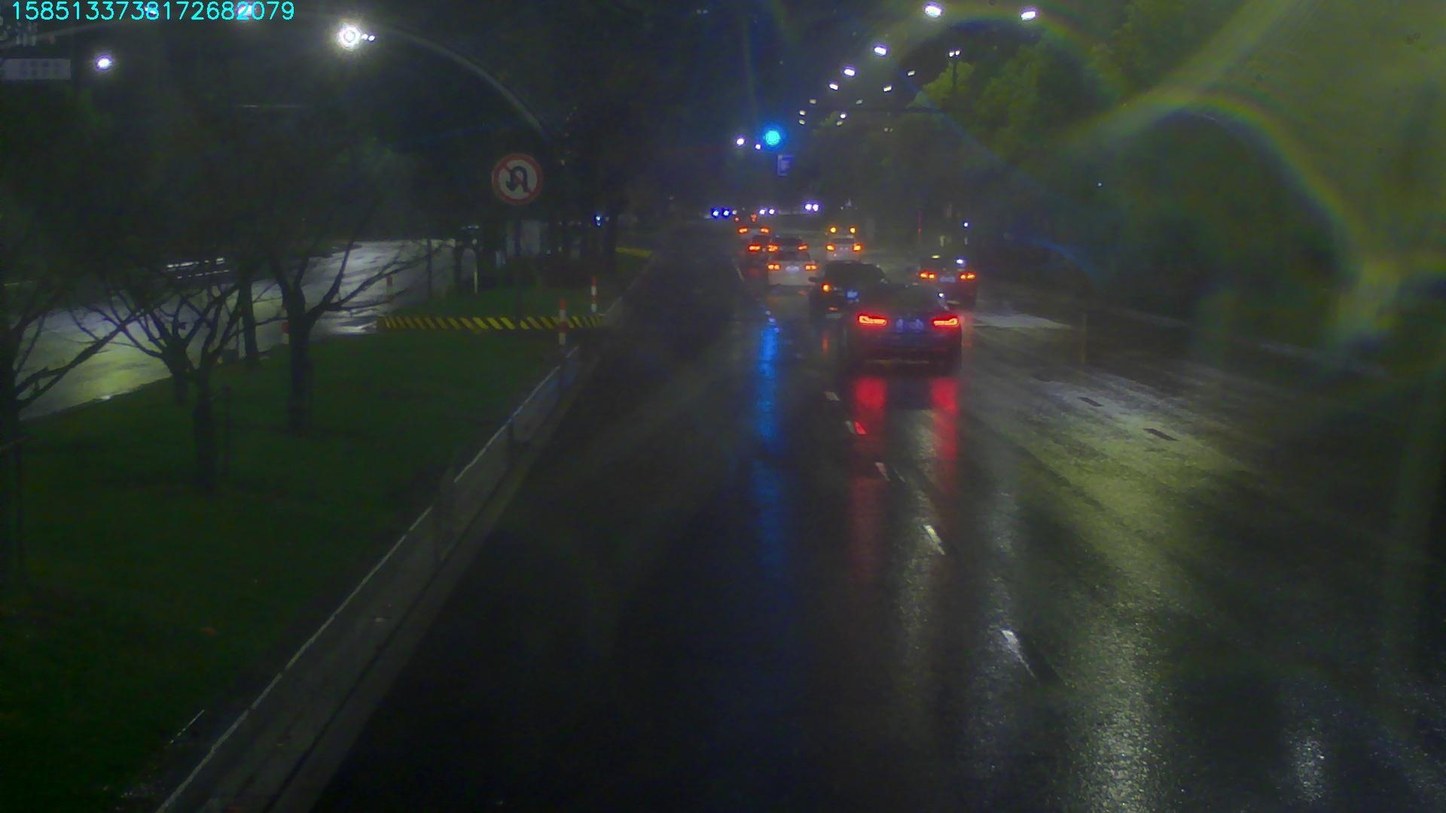green: (755, 122, 784, 149)
